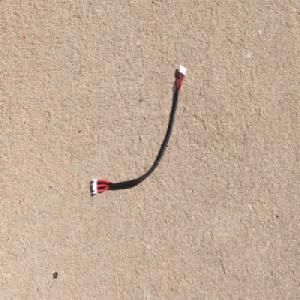Wire: (90, 60, 189, 197)
